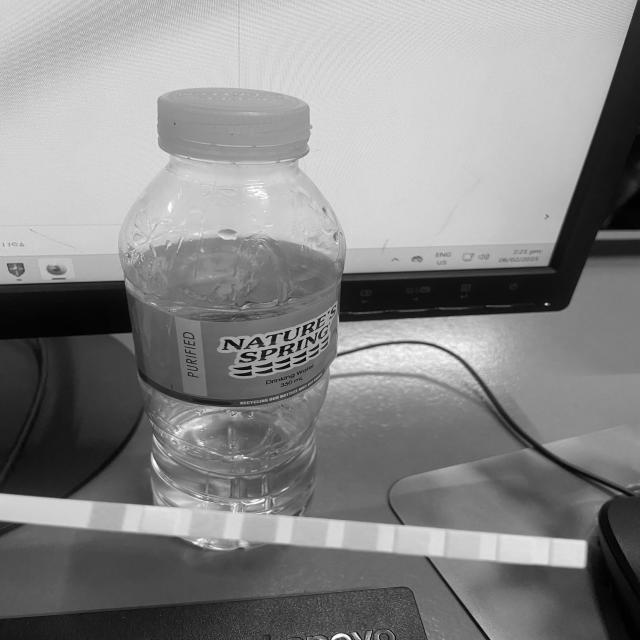Bilirubin: (144, 508, 173, 533)
Blood: (295, 519, 324, 544)
Glucose: (94, 504, 122, 529)
Ketone: (193, 512, 221, 537)
Leukocytes: (554, 541, 583, 566)
Nitrite: (501, 536, 530, 562)
Protein: (398, 528, 427, 553)
SpGravity: (246, 515, 275, 541)
Urobilinogen: (449, 532, 477, 558)
background: (0, 0, 640, 640)
pH: (346, 523, 374, 548)
strip: (1, 494, 588, 569)
